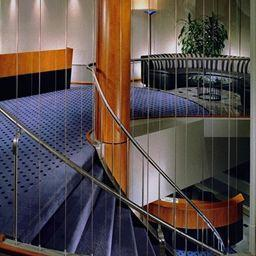Escaleras: (9, 164, 229, 255)
